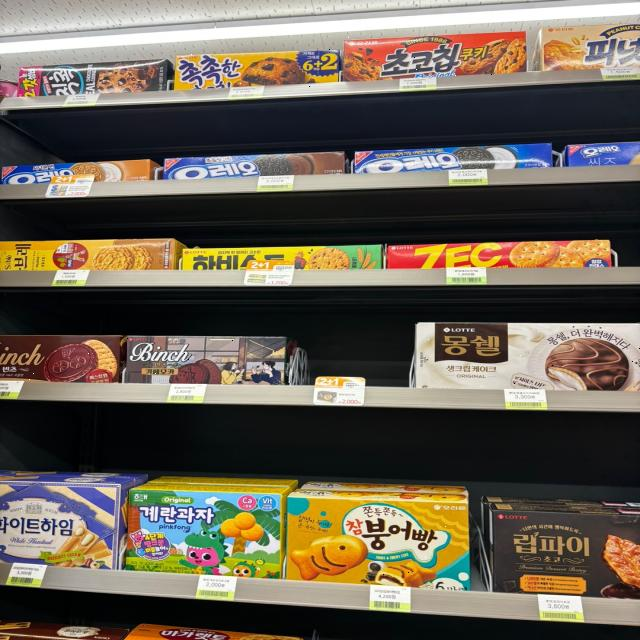product: (284, 497, 464, 583), (416, 324, 640, 391), (124, 491, 294, 578), (328, 34, 532, 82), (1, 481, 116, 565), (128, 333, 292, 383), (173, 52, 341, 94), (16, 56, 165, 94), (2, 335, 121, 380)
